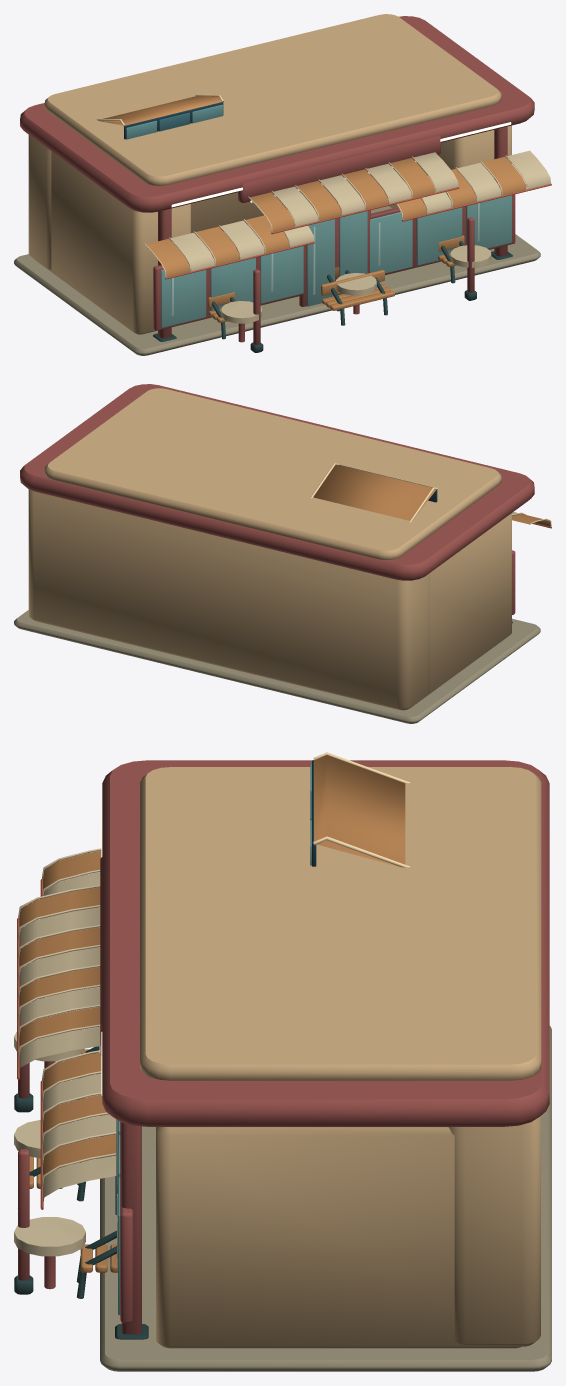
Rendered from route66_restaurant.glb.
3 views of the same model, one above another, from view 1: azimuth 30°, elevation 25°; view 2: azimuth 150°, elevation 25°; view 3: azimuth 270°, elevation 25° (orthographic). The views are drawn at different scales.
Parts seen in each view (by area): view 1: Route66Restaurant; view 2: Route66Restaurant; view 3: Route66Restaurant.
Part boxes in pixels (box(x1,y1,x2,y2)): Route66Restaurant: box(14, 14, 551, 355); Route66Restaurant: box(14, 384, 551, 723); Route66Restaurant: box(14, 752, 551, 1371).
Size of the model in its own units: 9.98 by 4.25 by 6.57.
